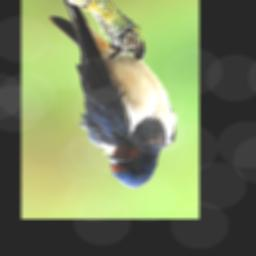Swallow: (48, 0, 178, 189)
